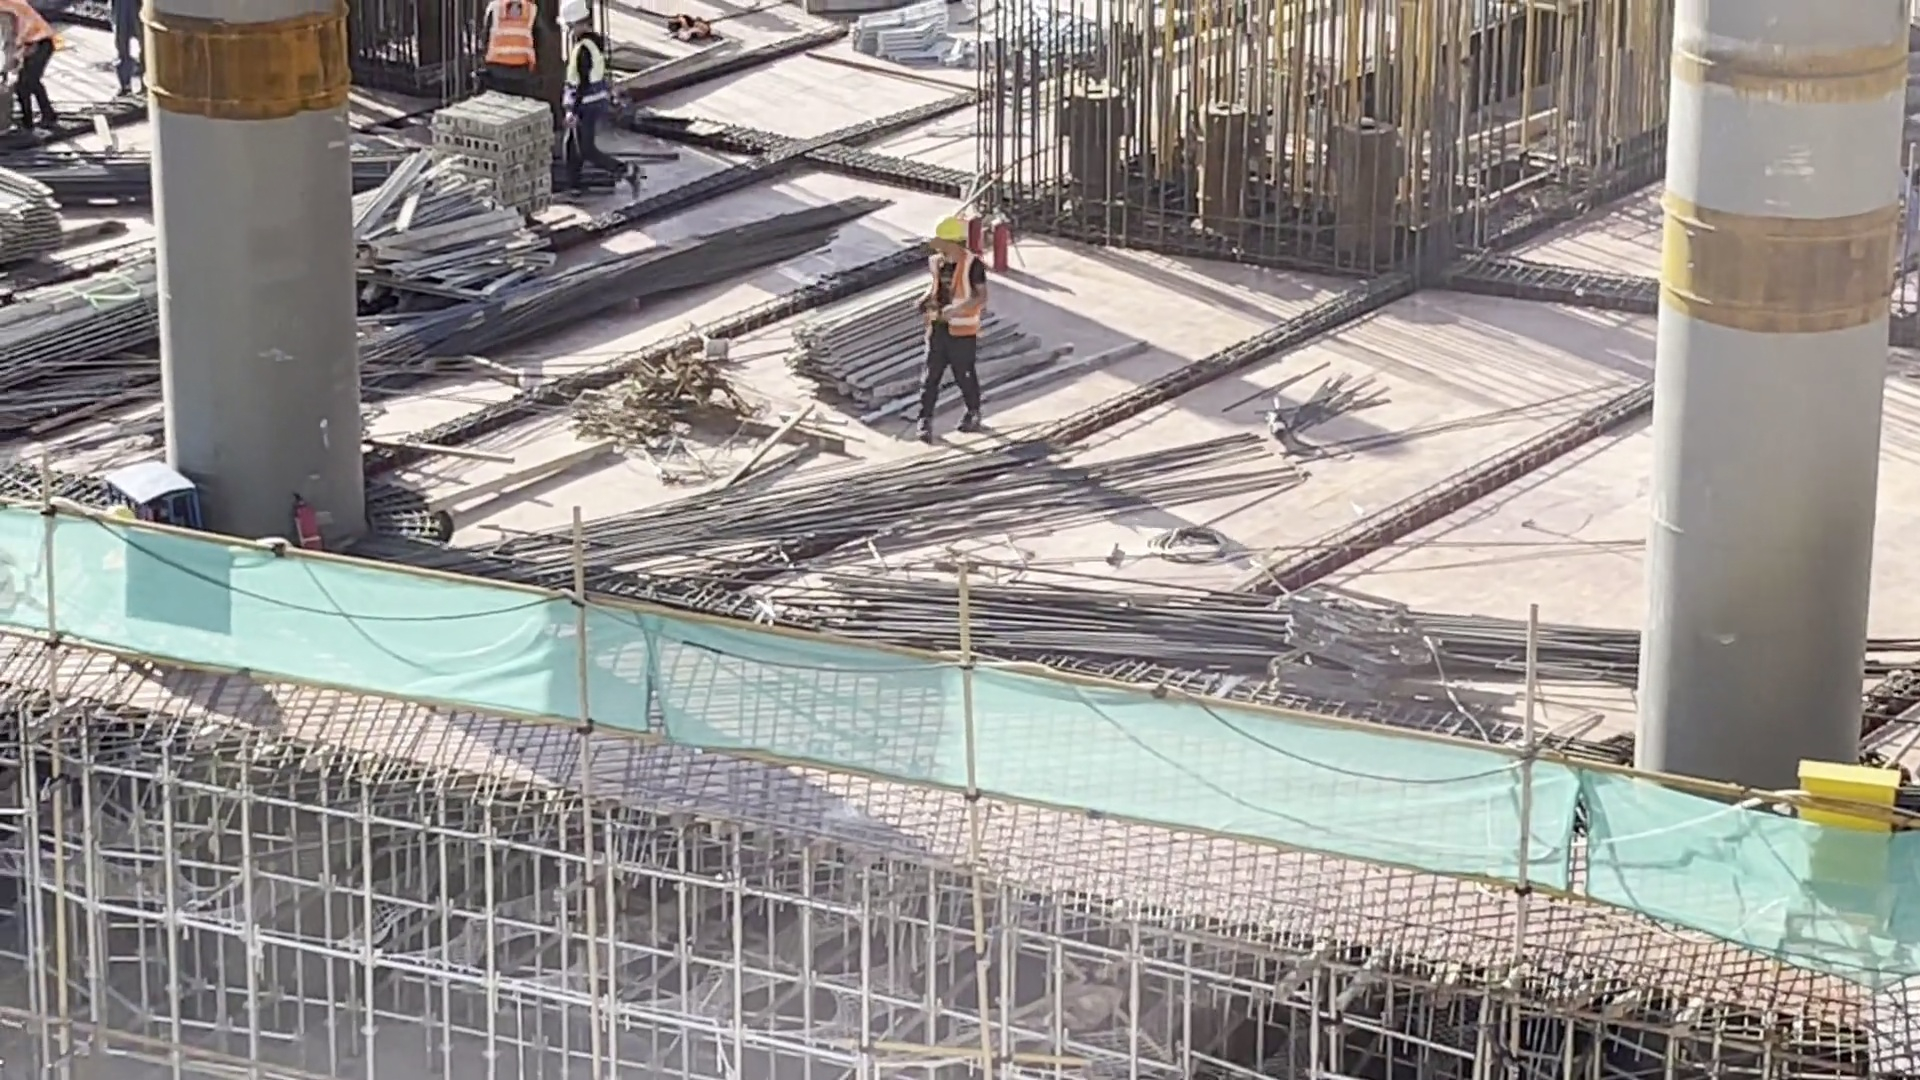ebox: (1799, 741, 1904, 931)
helmet: (928, 217, 971, 252)
person: (918, 210, 989, 415), (574, 1, 618, 165), (496, 1, 544, 96), (23, 1, 58, 120), (116, 1, 139, 85)
rebar: (391, 491, 1298, 611), (803, 592, 1601, 711), (381, 227, 845, 351), (11, 151, 671, 180)
vest: (916, 261, 991, 339), (574, 31, 604, 109), (492, 1, 524, 64), (1, 1, 46, 42)
